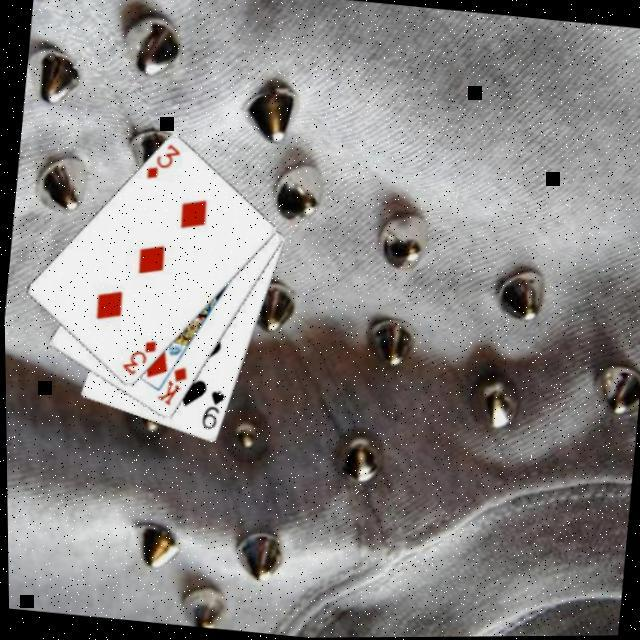3D: (117, 335, 160, 383), (142, 139, 184, 185)
9S: (196, 386, 229, 435)
KD: (151, 362, 191, 411)
